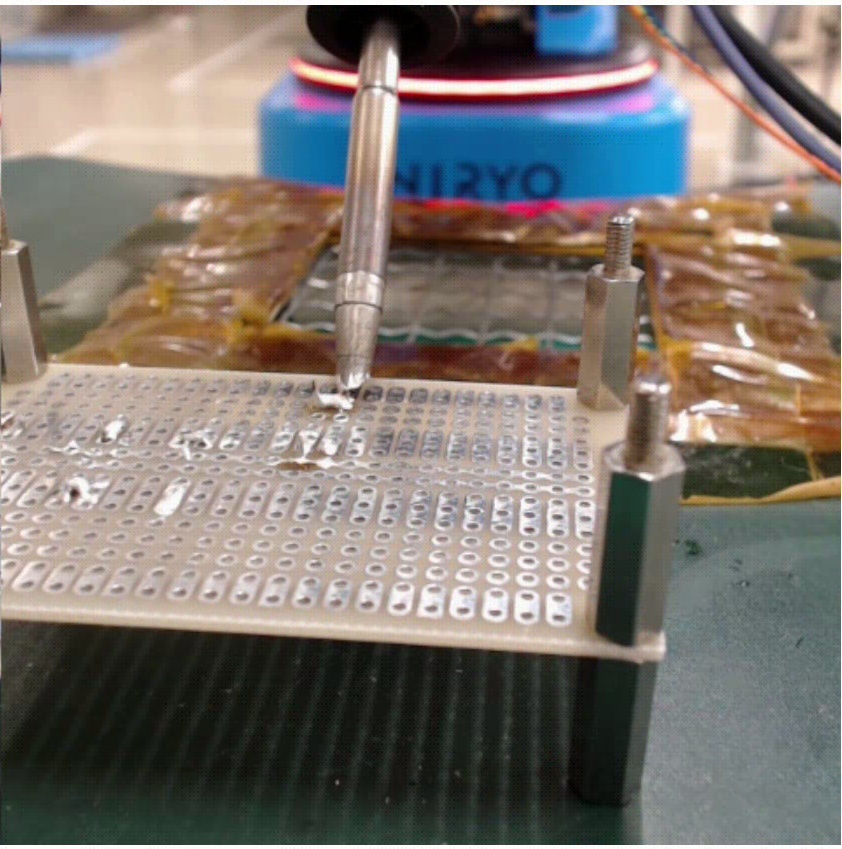soldering_iron: (333, 17, 403, 393)
